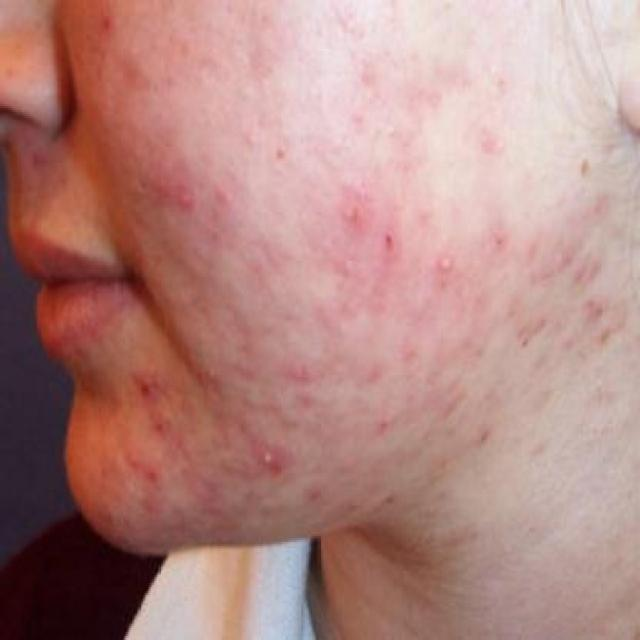blackheads: (379, 216, 403, 261), (486, 226, 508, 265)
pustules: (252, 444, 286, 477), (169, 186, 203, 218)
whiteheads: (428, 240, 462, 292)
